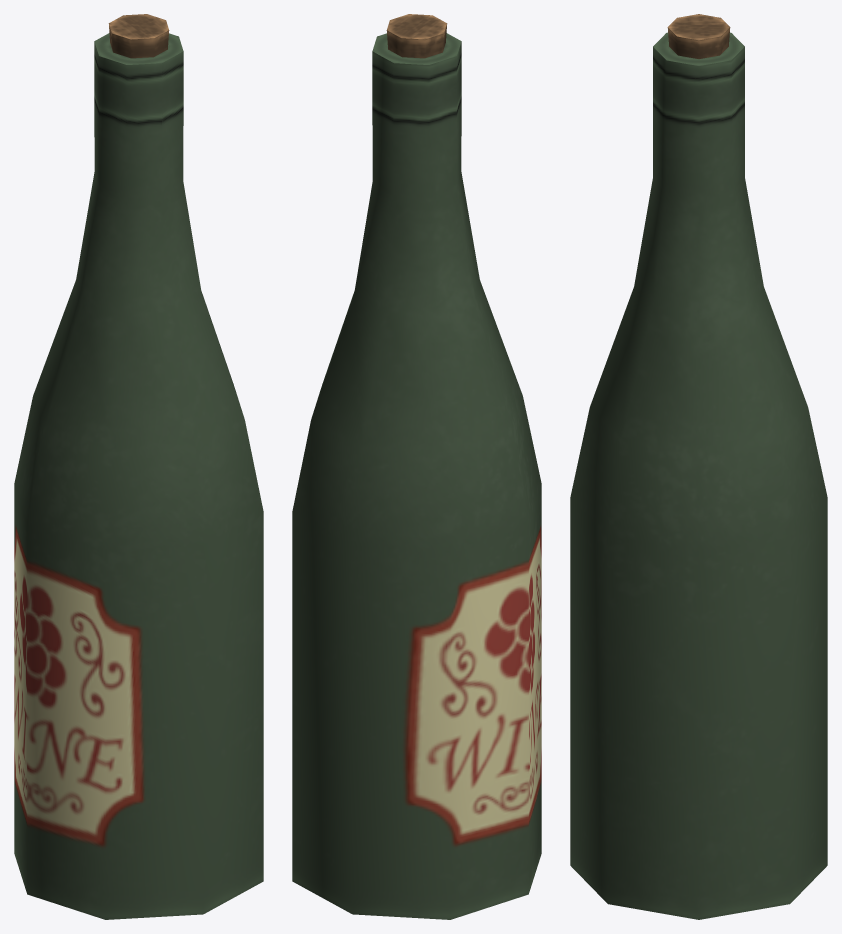
The model's file is LOD1_smallBottle_wLabel_closed.fbx.
3 views of the same model, side by side, from view 1: azimuth 30°, elevation 25°; view 2: azimuth 150°, elevation 25°; view 3: azimuth 270°, elevation 25° (orthographic).
Parts seen in each view (by area): view 1: LOD1_smallBottle_wLabel_closed; view 2: LOD1_smallBottle_wLabel_closed; view 3: LOD1_smallBottle_wLabel_closed.
Boxes of the visible parts, box(x1,y1,x2,y2) form: LOD1_smallBottle_wLabel_closed: box(14, 14, 263, 919); LOD1_smallBottle_wLabel_closed: box(292, 14, 541, 919); LOD1_smallBottle_wLabel_closed: box(570, 14, 827, 919).
Size of the model in its own units: 0.0929 by 0.3339 by 0.0929.
